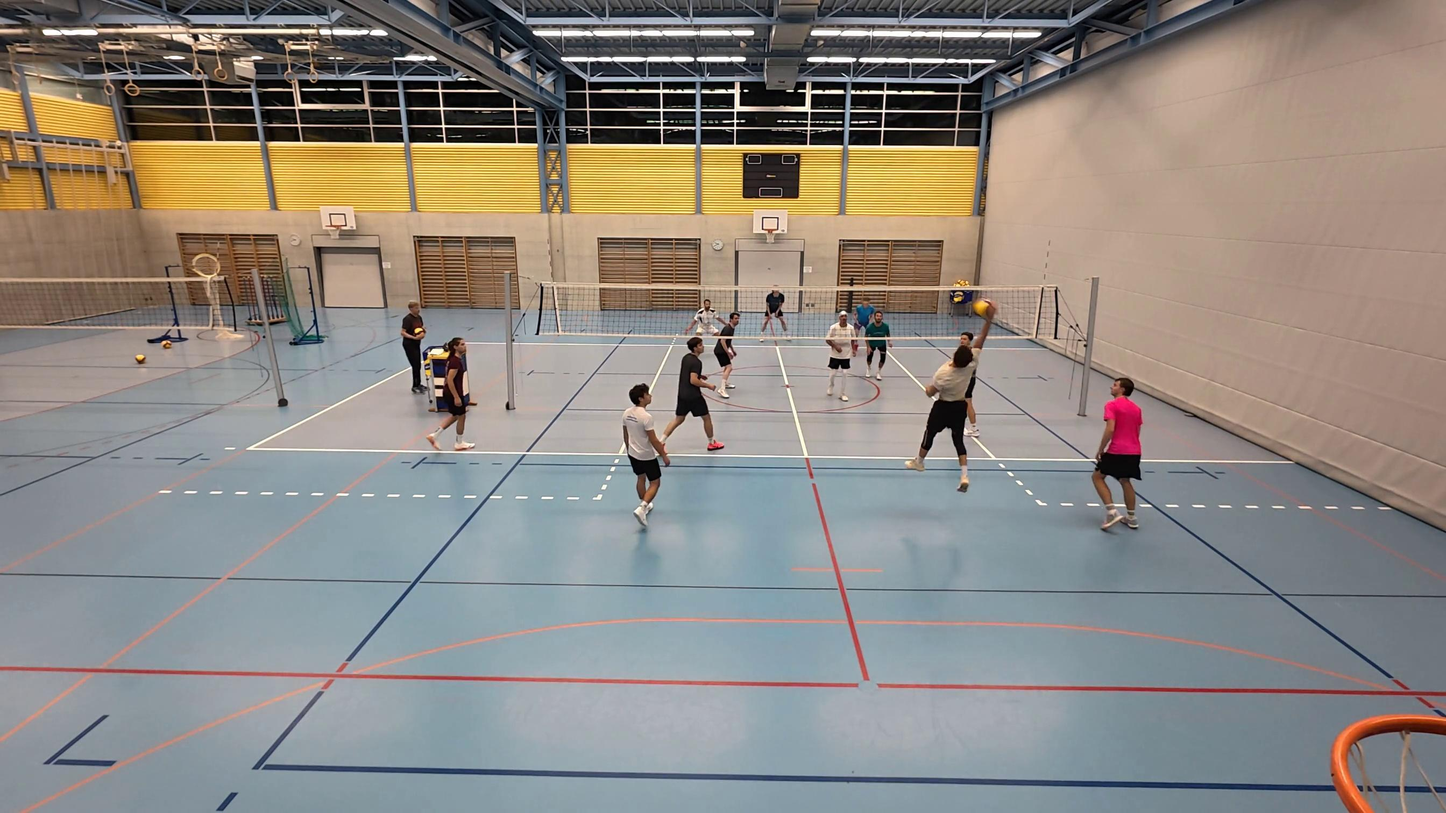attacco: (902, 301, 997, 493)
